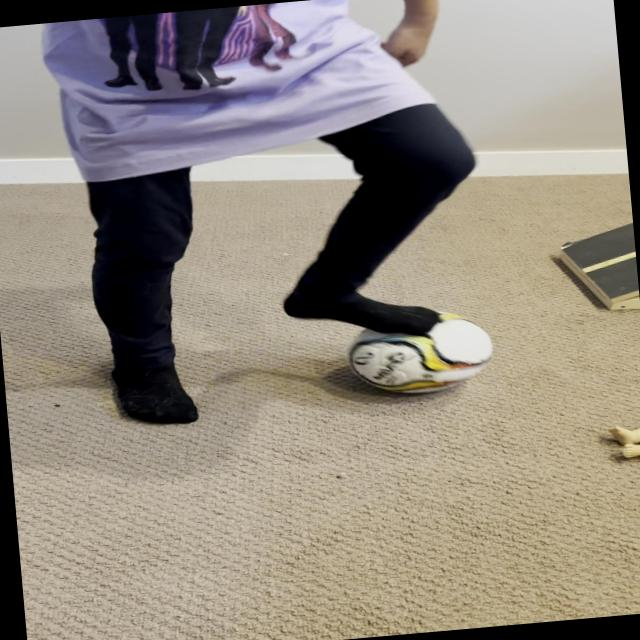Soccer Ball: (344, 304, 494, 398)
